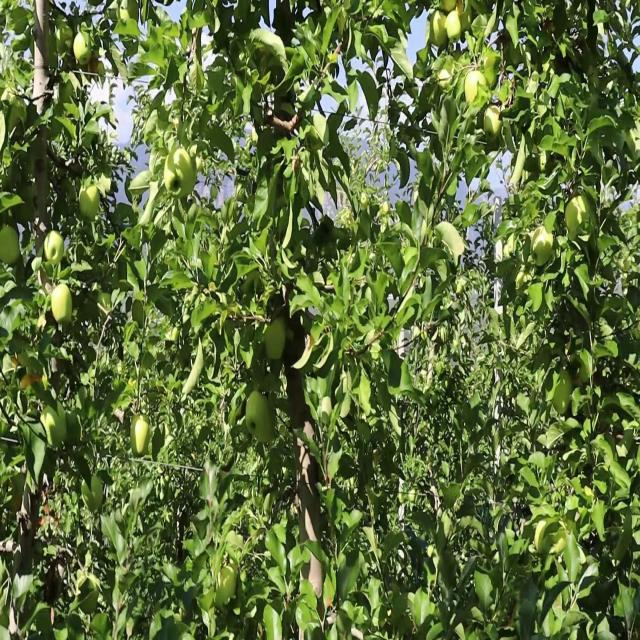apple: (164, 149, 199, 197), (248, 391, 276, 444), (264, 319, 287, 363), (564, 191, 588, 233), (248, 391, 272, 430), (52, 284, 74, 324), (0, 227, 20, 268), (536, 227, 555, 267), (80, 184, 101, 220), (132, 419, 151, 455), (468, 71, 488, 105), (484, 106, 504, 137), (44, 234, 65, 263), (432, 14, 448, 50), (40, 263, 59, 290), (452, 0, 466, 36), (76, 35, 91, 68), (448, 14, 464, 43), (536, 519, 547, 555), (20, 376, 42, 391), (456, 0, 467, 27), (12, 490, 24, 514), (440, 0, 456, 16), (88, 56, 100, 76)
